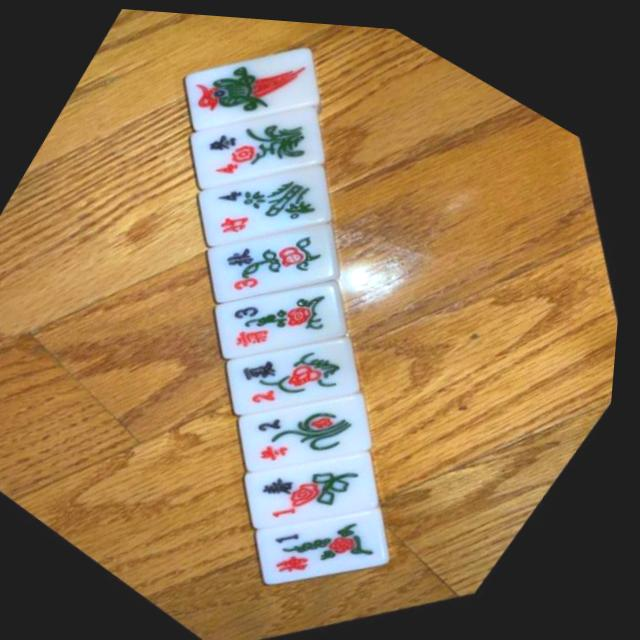bf1: (271, 506, 405, 588)
bf2: (249, 392, 385, 476)
bf3: (220, 280, 355, 365)
bf4: (200, 166, 335, 254)
bs1: (257, 449, 393, 533)
bs2: (234, 336, 371, 421)
bs3: (212, 223, 346, 310)
bs4: (190, 108, 327, 196)
sb1: (183, 49, 319, 139)
